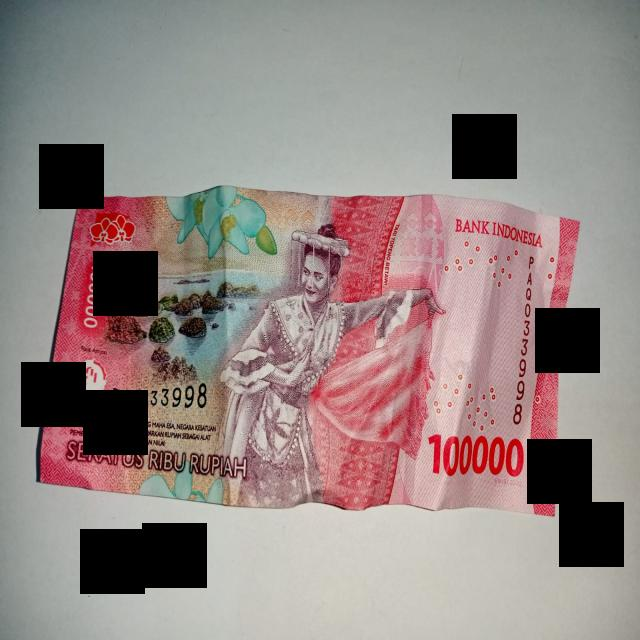seratusribu rupiah: (39, 187, 579, 514)
